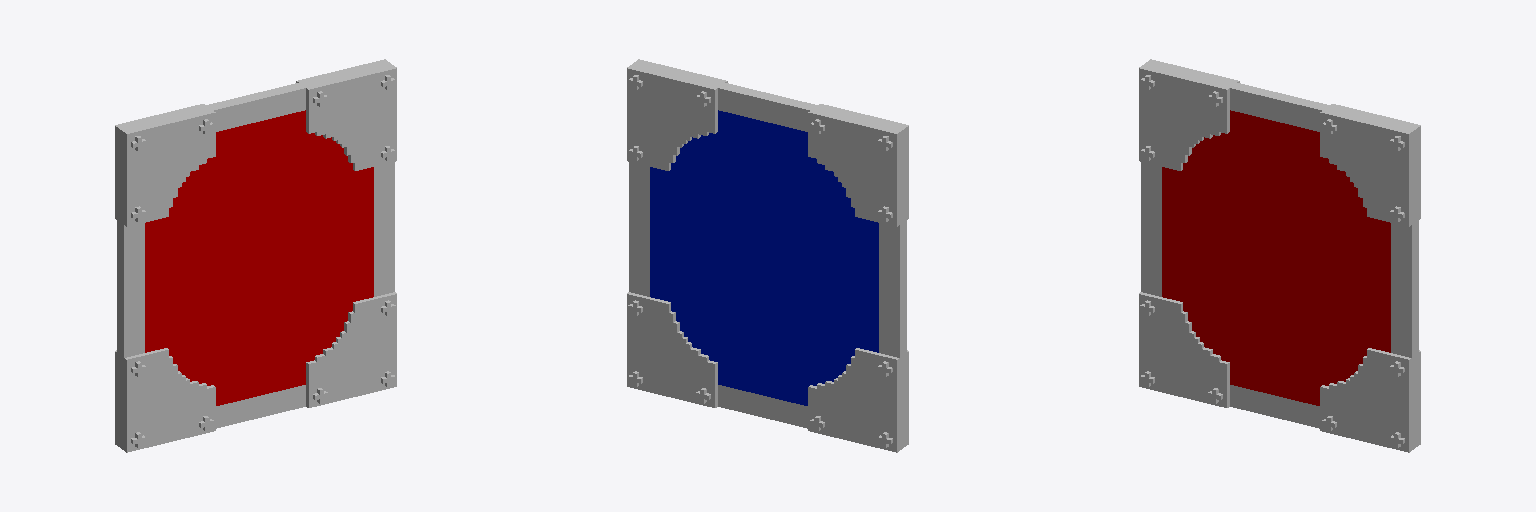
The model's file is DORWS01_1.obj.
3 renders of one model, left to right at view 1: azimuth 30°, elevation 25°; view 2: azimuth 150°, elevation 25°; view 3: azimuth 330°, elevation 25°, orthographic.
Parts seen in each view (by area): view 1: Default; view 2: Default; view 3: Default.
Boxes of the visible parts, x1,y1,x2,y2 form: Default: [115, 59, 396, 452]; Default: [627, 59, 908, 452]; Default: [1139, 59, 1420, 452].
Size of the model in its own units: 6.4 by 7.2 by 0.7.